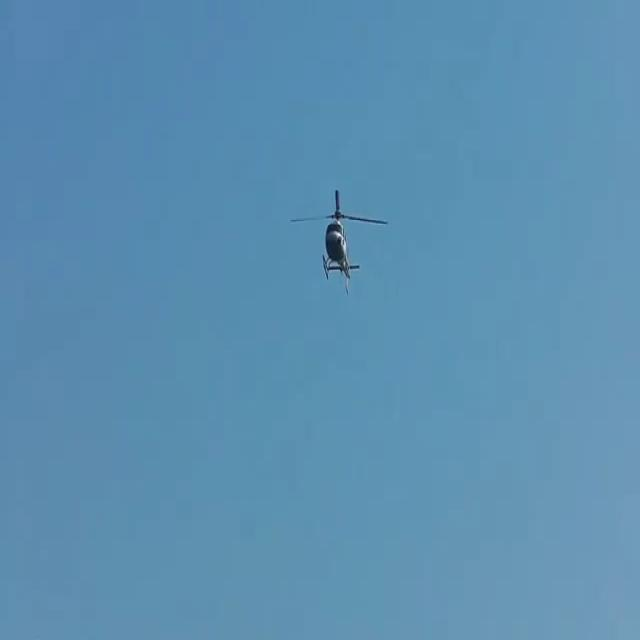Helicopter: (283, 180, 401, 306)
